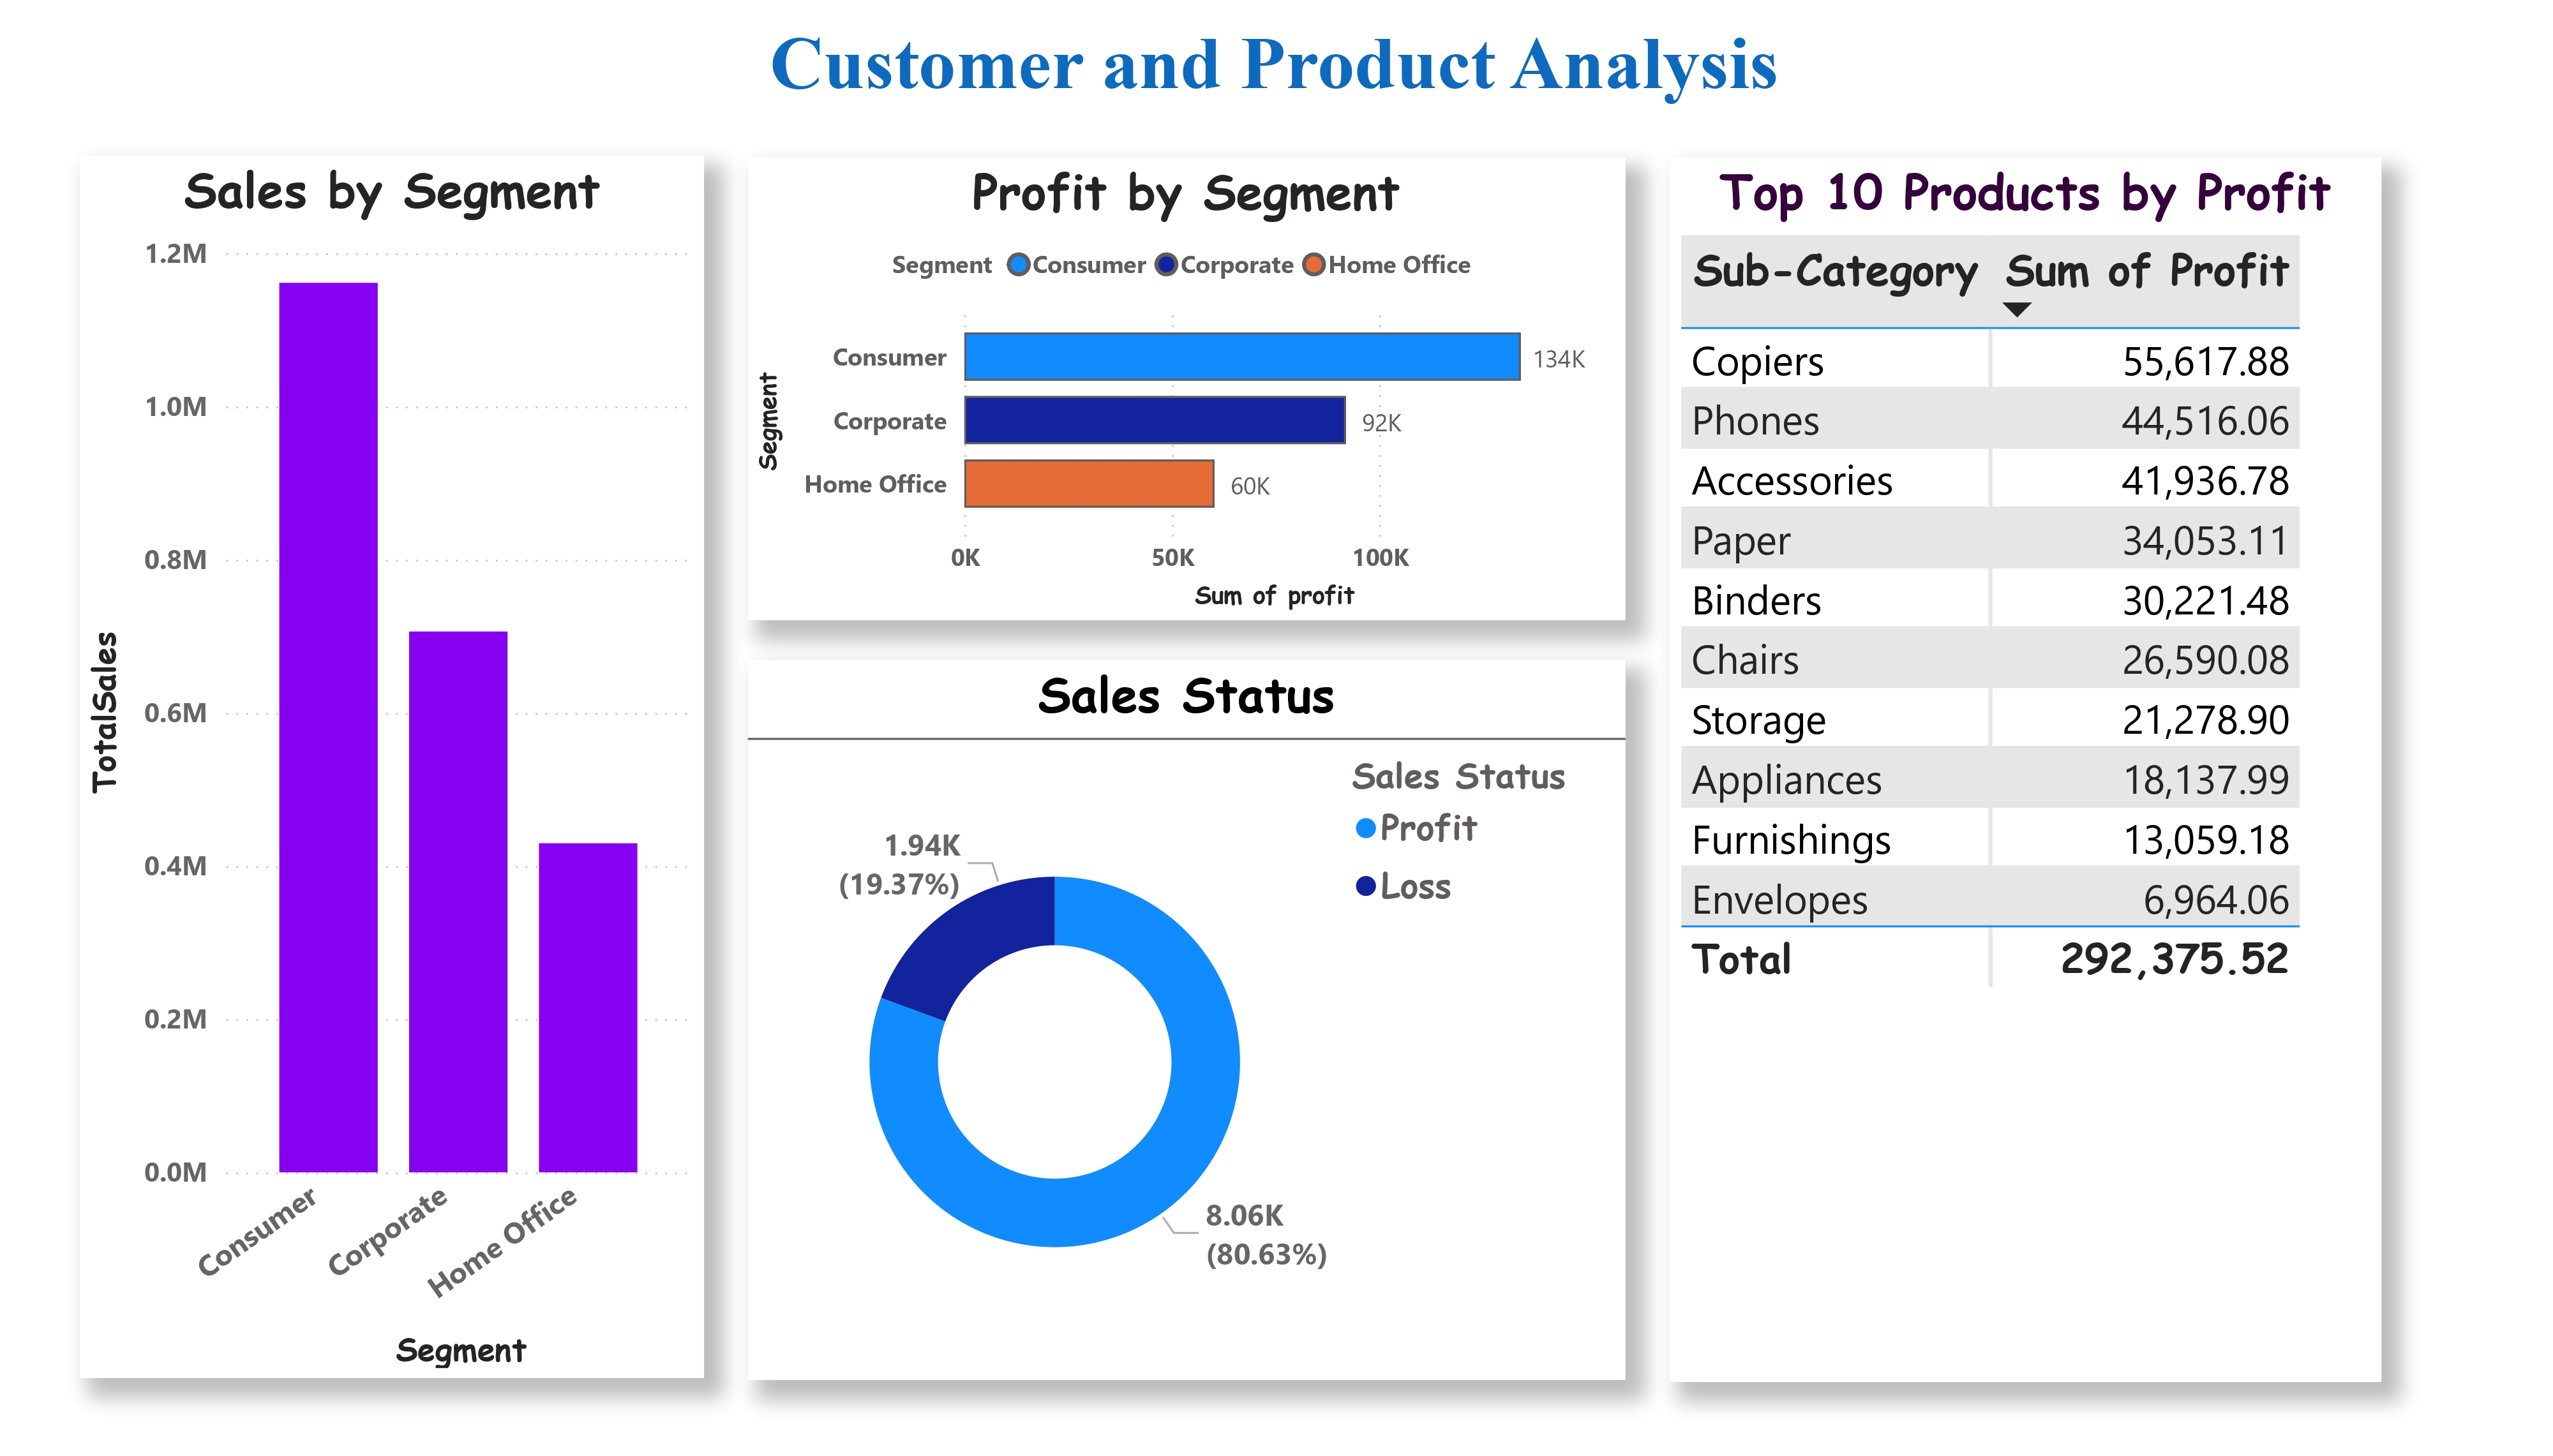

The dashboard page shown, as its layout file describes it:
{"tool":"powerbi","page":{"name":"Page 4","canvas":[1280,720],"ordinal":3},"visuals":[{"type":"columnChart","title":"Sales by Segment","fields":{"Category":["Customersegment_performance.Segment"],"Y":["Customersegment_performance.TotalSales"]},"box":[40,73.3,313.3,613.3],"z":0},{"type":"tableEx","title":"Top 10 Products by Profit","fields":{"Values":["SampleSuperstorecleaned.Sub-Category","Sum(SampleSuperstorecleaned.Profit)"]},"box":[889.9,73.4,338.4,613.4],"z":1000},{"type":"donutChart","title":"Sales Status ","fields":{"Category":["SampleSuperstorecleaned.Sales Status"],"Y":["CountNonNull(SampleSuperstorecleaned.Sales Status)"]},"box":[393.1,73.4,466.6,306.7],"z":2000},{"type":"barChart","title":"Profit by Segment","fields":{"Category":["Customersegment_performance.Segment"],"Y":["Sum(Customersegment_performance.profit)"],"Series":["Customersegment_performance.Segment"]},"box":[393.1,414.7,466.6,272.2],"z":3000},{"type":"textbox","box":[348.3,0,581.7,53.3],"z":4000}]}

Visuals, with their boxes in screenshot pixels (x1, y1, x2, y2), scaled from the page's 1280x720 canvas onto the 2553x1456 screenshot:
"Sales by Segment" columnChart: box=[80, 148, 705, 1388]
"Top 10 Products by Profit" tableEx: box=[1775, 149, 2450, 1389]
"Sales Status " donutChart: box=[784, 149, 1715, 769]
"Profit by Segment" barChart: box=[784, 838, 1715, 1389]
textbox: box=[694, 0, 1855, 108]
